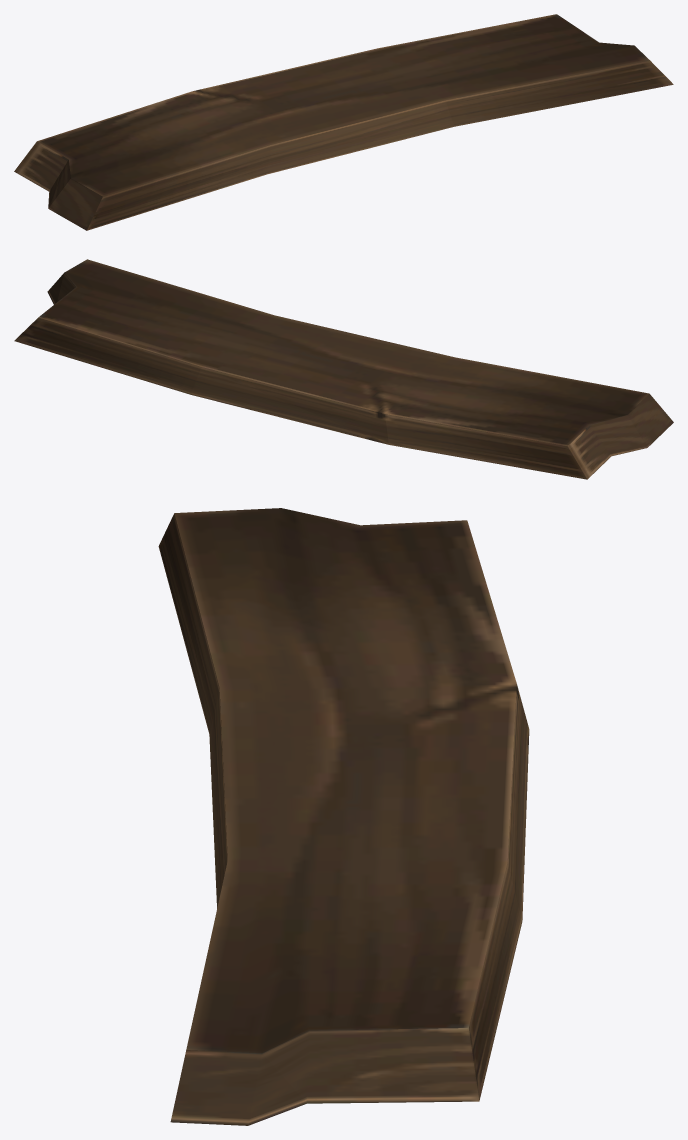
Rendered from bandit_groundboard_04.fbx.
3 views of the same model, one above another, from view 1: azimuth 30°, elevation 25°; view 2: azimuth 150°, elevation 25°; view 3: azimuth 270°, elevation 25° (orthographic). The views are drawn at different scales.
Parts seen in each view (by area): view 1: obj0.538; view 2: obj0.538; view 3: obj0.538.
Part boxes in pixels (x1=…): obj0.538: x1=14, y1=14, x2=673, y2=230; obj0.538: x1=14, y1=259, x2=673, y2=479; obj0.538: x1=158, y1=508, x2=529, y2=1125.
Bounding box in the file's own units: 2.37 × 0.0996 × 0.6335.
